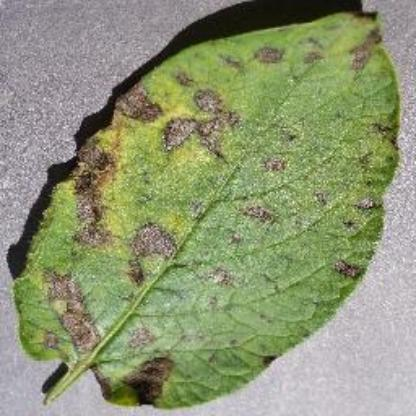Early-Blight: (10, 10, 408, 408)
